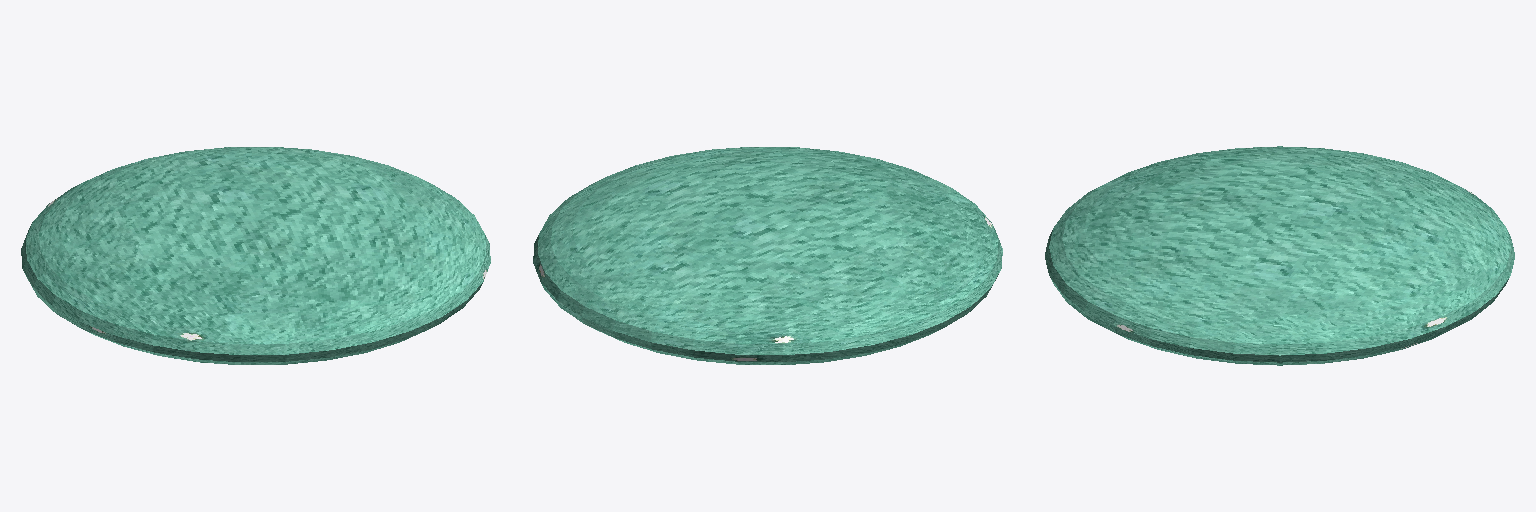
The picture shows the model from 3 angles: view 1: azimuth 30°, elevation 25°; view 2: azimuth 150°, elevation 25°; view 3: azimuth 270°, elevation 25°; orthographic projection.
Parts seen in each view (by area): view 1: Sphere.014; view 2: Sphere.014; view 3: Sphere.014.
Part boxes in pixels (left/top/right/bottom): Sphere.014: left=21, top=147, right=490, bottom=364; Sphere.014: left=533, top=147, right=1002, bottom=364; Sphere.014: left=1045, top=146, right=1514, bottom=365.
Size of the model in its own units: 0.9092 by 0.1969 by 0.9092.
Materials: 1 (1 with a texture image).